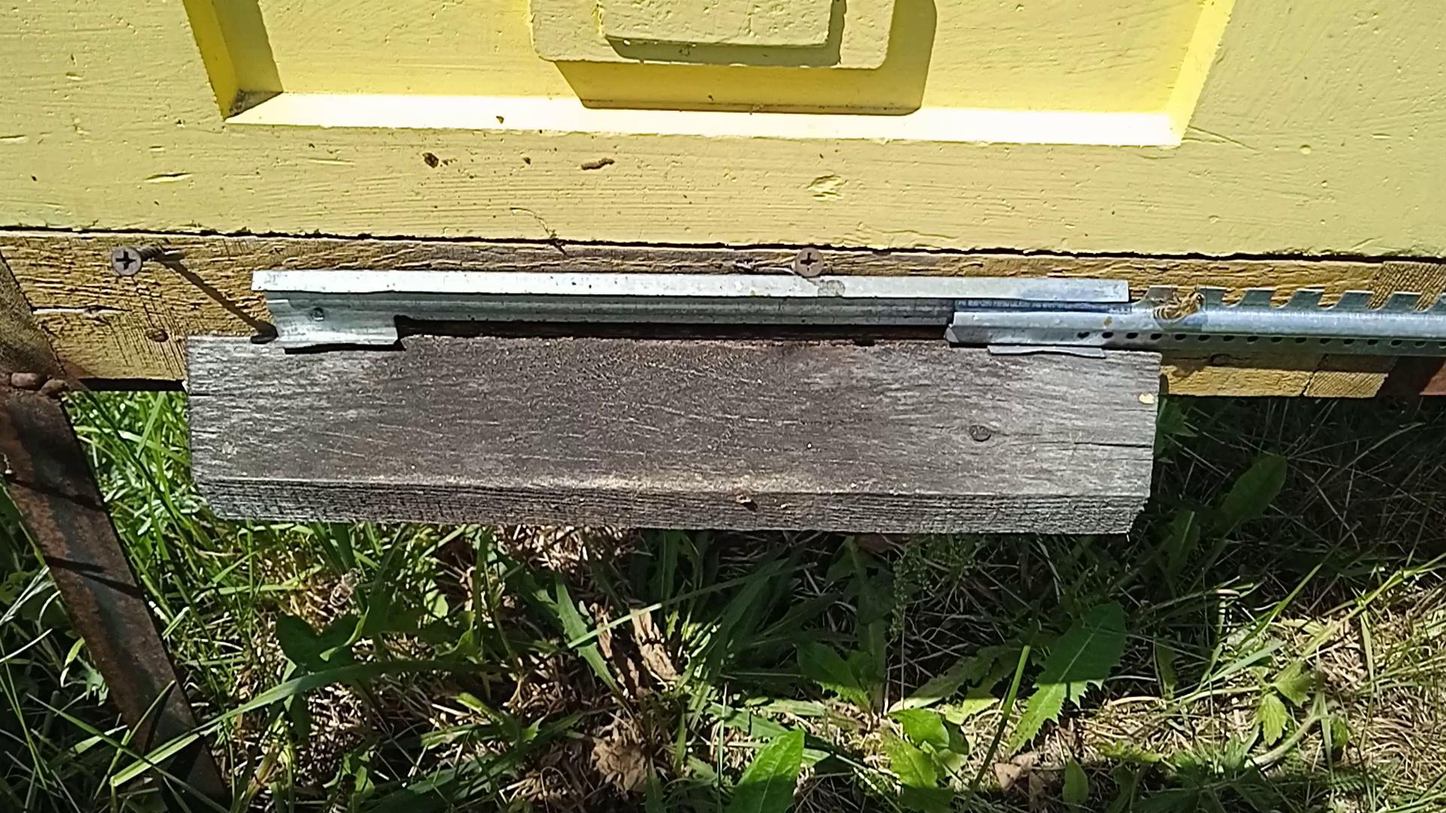worker-bee: (1154, 289, 1209, 324), (329, 567, 363, 607), (330, 773, 358, 813)
